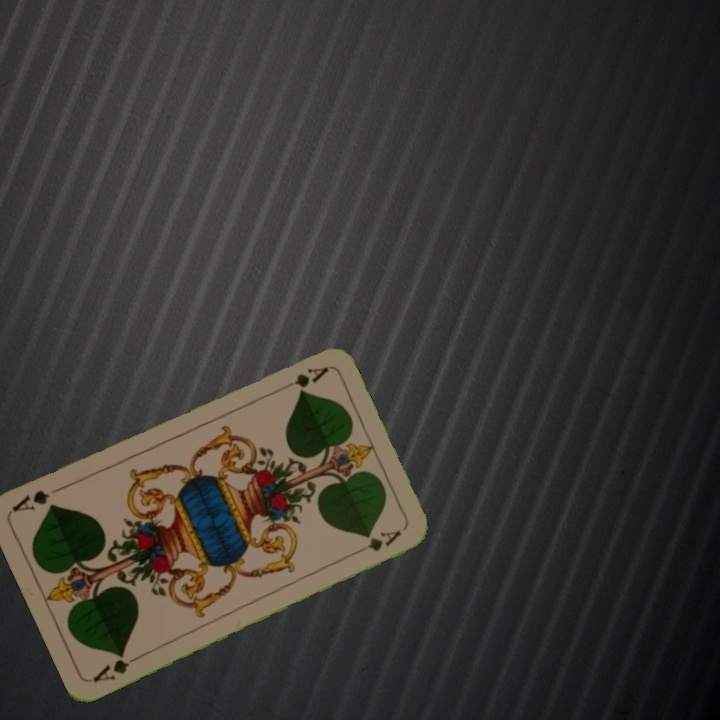GA: (89, 648, 144, 686), (274, 363, 330, 393)
